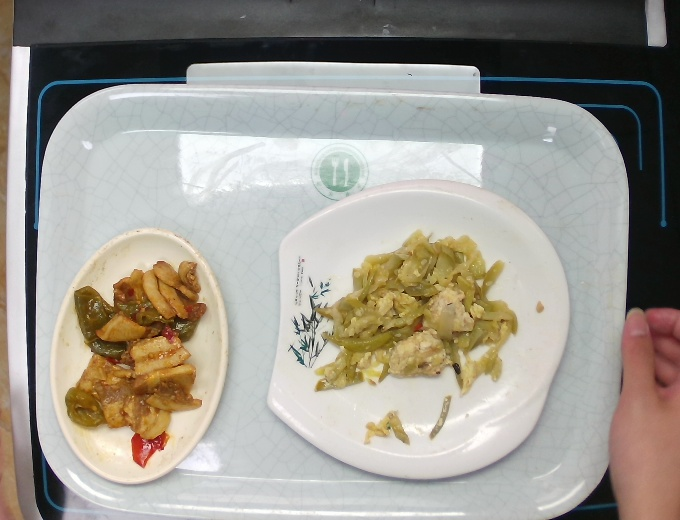JYsf-Mian_Pan: (259, 170, 580, 484)
JYsf-Tuo_Yuan_Wan: (45, 220, 233, 494)
